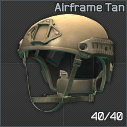Crye Precision AirFrame helmet Tan: (0, 0, 127, 127)
